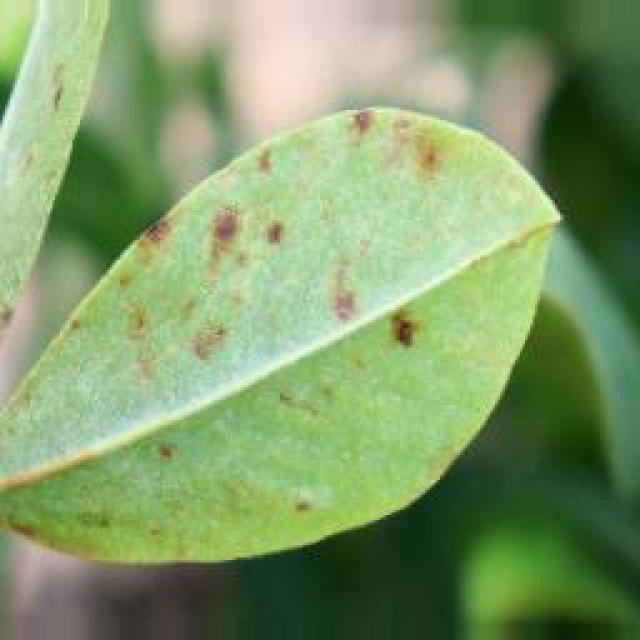Whitefly: (105, 93, 520, 561)
